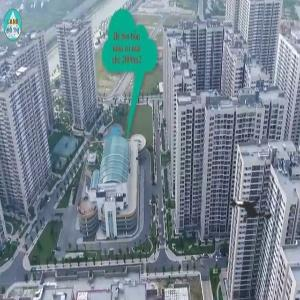drone: (207, 163, 295, 251)
